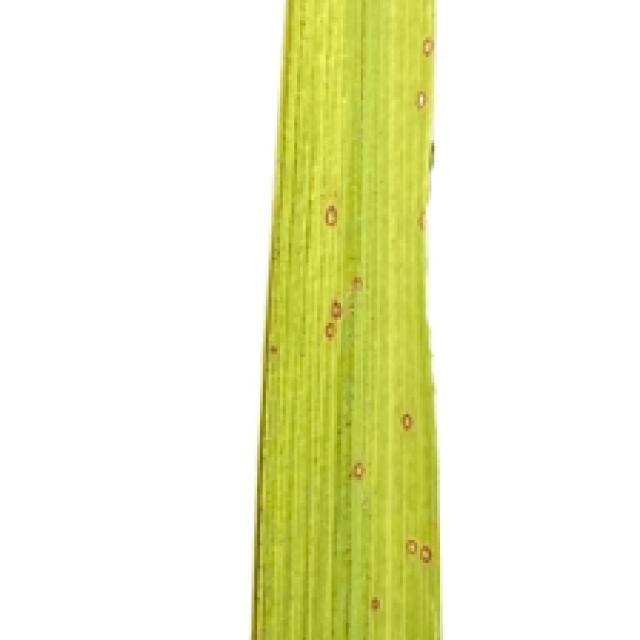Rice___Brown_Spot: (254, 0, 441, 637)
